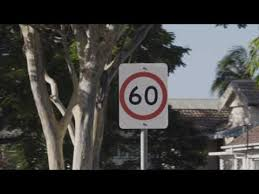sp60: (118, 72, 172, 120)
